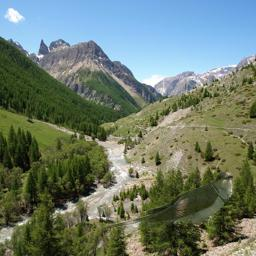Cuckoo: (98, 170, 233, 232)
